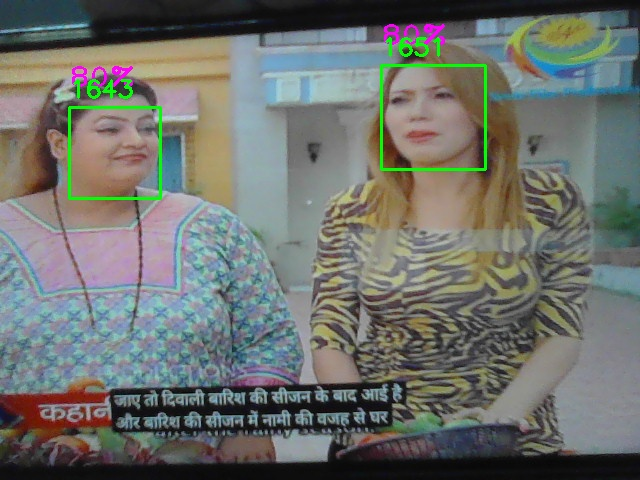fake: (381, 65, 486, 170), (69, 107, 161, 199)
